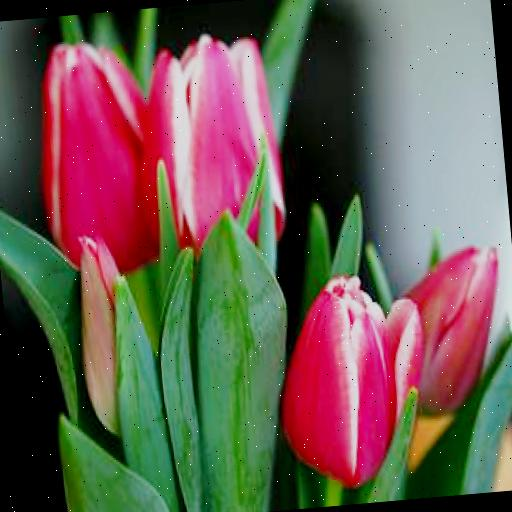tulip: (132, 30, 286, 256), (23, 38, 156, 279), (272, 266, 406, 488), (393, 233, 512, 434), (50, 224, 140, 436)
